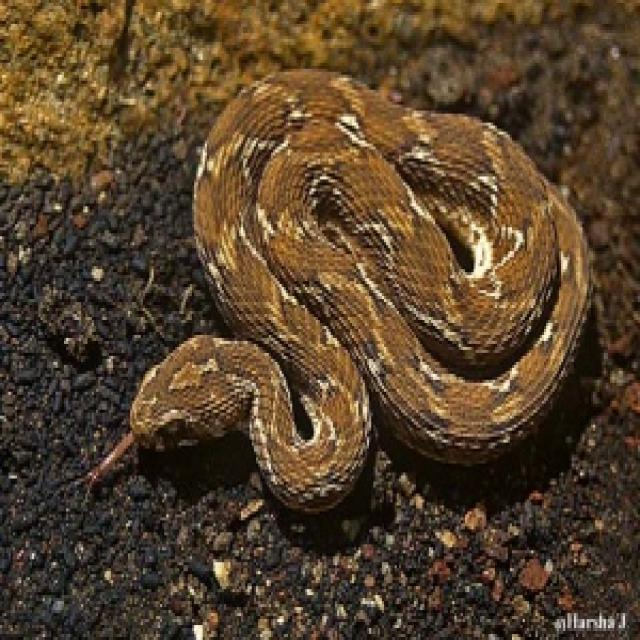Snake: (81, 62, 591, 514)
